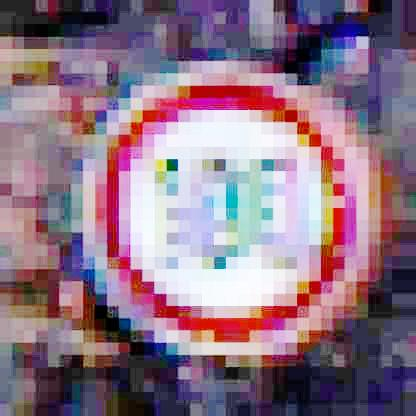Speed Limit -100-: (79, 64, 367, 353)
